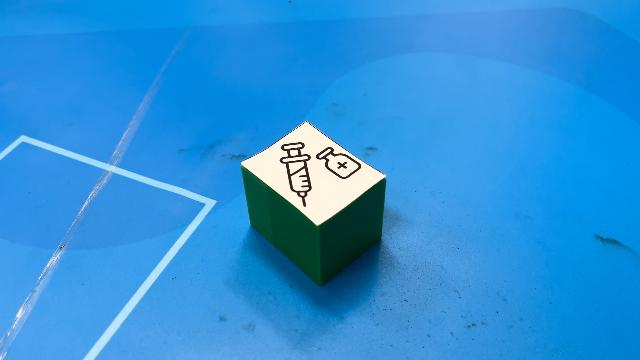syringe: (240, 120, 386, 286)
